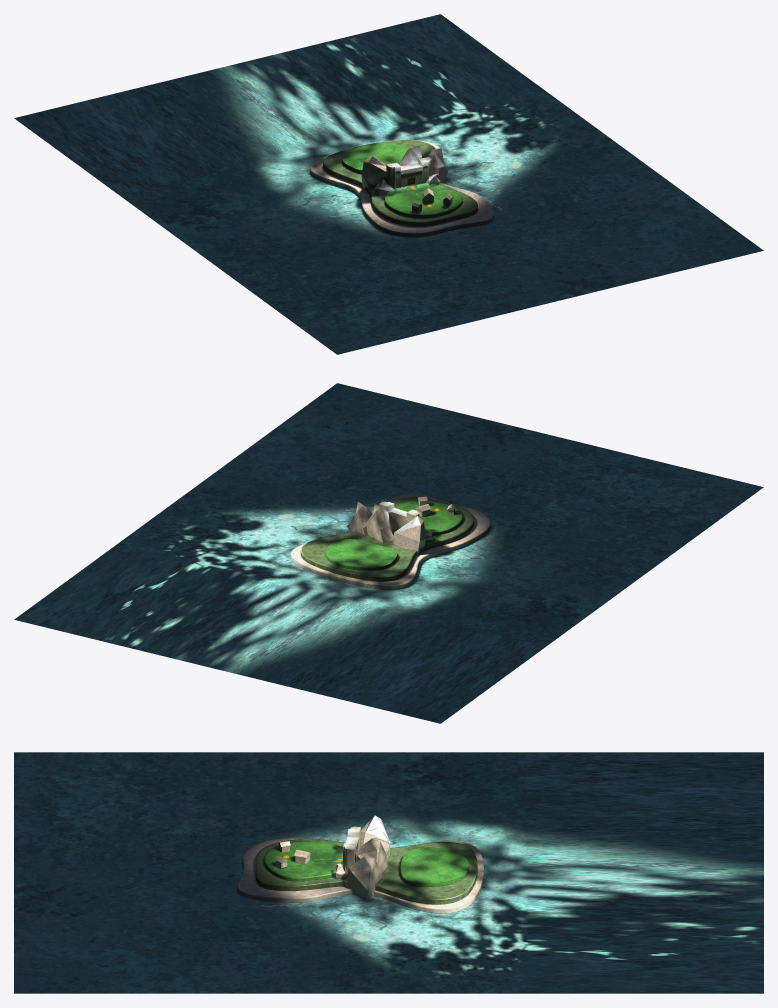
Rendered from dnd_map_05a.glb.
3 views of the same model, one above another, from view 1: azimuth 30°, elevation 25°; view 2: azimuth 150°, elevation 25°; view 3: azimuth 270°, elevation 25° (orthographic). The views are drawn at different scales.
Visible parts, largest first — view 1: map-01; view 2: map-01; view 3: map-01.
Part boxes in pixels (x1=…): map-01: x1=14, y1=14, x2=763, y2=354; map-01: x1=14, y1=383, x2=763, y2=723; map-01: x1=14, y1=752, x2=763, y2=993.
Bounding box in the file's own units: 37.41 × 4.9 × 49.09.
2 materials, 1 textured.
